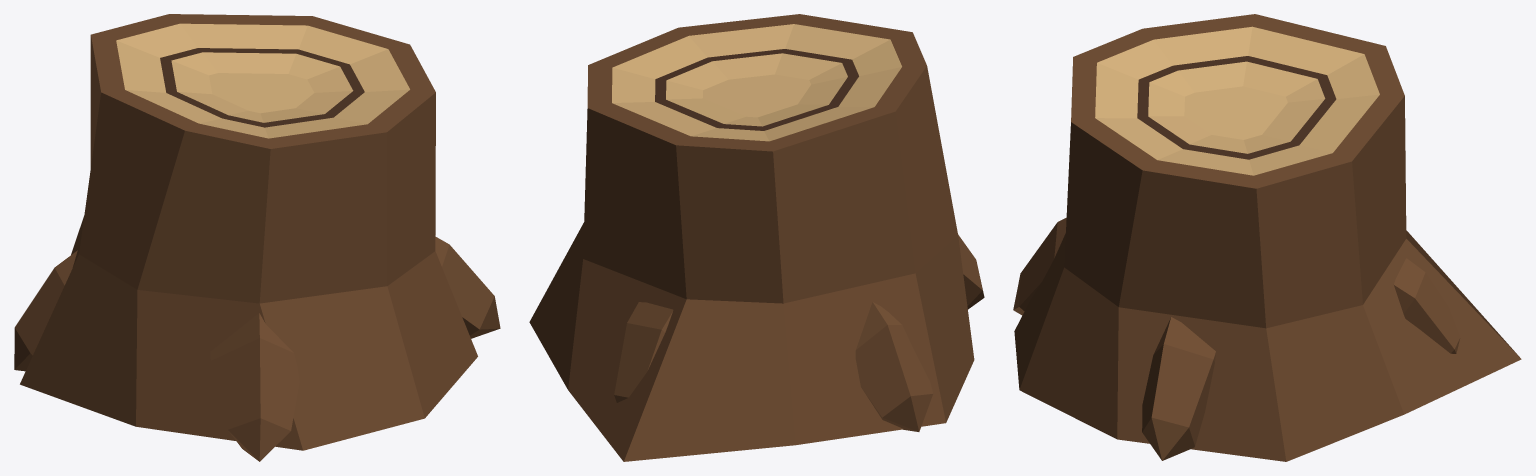
Rendered from Veg_Baumstumpf.fbx.
3 renders of one model, left to right at view 1: azimuth 30°, elevation 25°; view 2: azimuth 150°, elevation 25°; view 3: azimuth 270°, elevation 25°, orthographic. The views are drawn at different scales.
Parts seen in each view (by area): view 1: Veg_Baumstumpf; view 2: Veg_Baumstumpf; view 3: Veg_Baumstumpf.
Part boxes in pixels (x1=…): Veg_Baumstumpf: x1=14, y1=14, x2=500, y2=461; Veg_Baumstumpf: x1=529, y1=14, x2=984, y2=461; Veg_Baumstumpf: x1=1013, y1=14, x2=1521, y2=461.
Size of the model in its own units: 0.7431 by 0.5 by 0.8.
